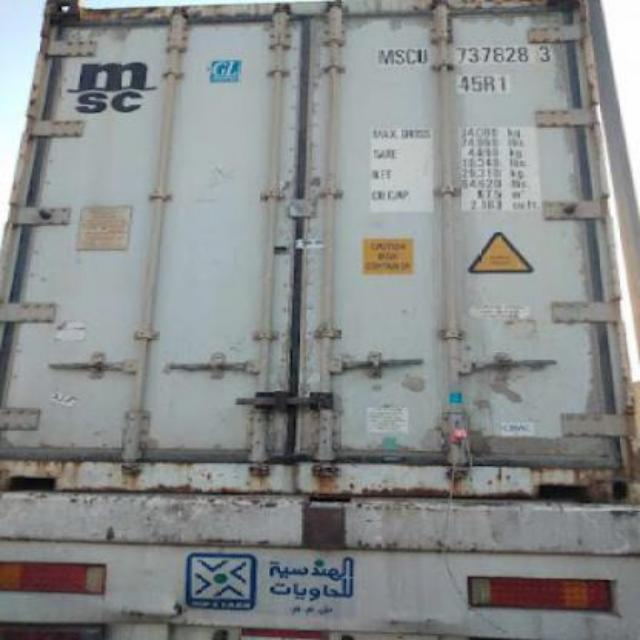2: (504, 44, 518, 64)
3: (534, 42, 550, 62), (468, 42, 478, 62)
7: (452, 41, 468, 64), (478, 42, 492, 66)
8: (492, 42, 506, 66), (516, 42, 530, 66)
C: (406, 46, 416, 66)
M: (372, 43, 394, 67)
S: (392, 42, 406, 68)
U: (416, 44, 429, 66)
